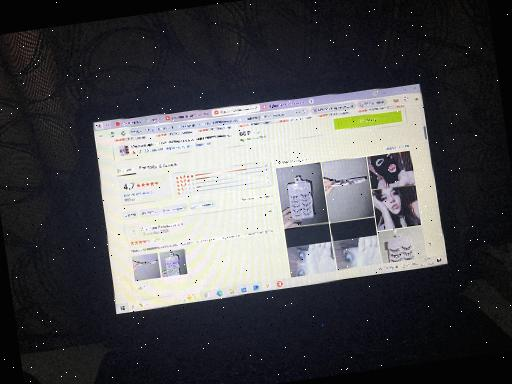aliexpress: (97, 96, 445, 302)
